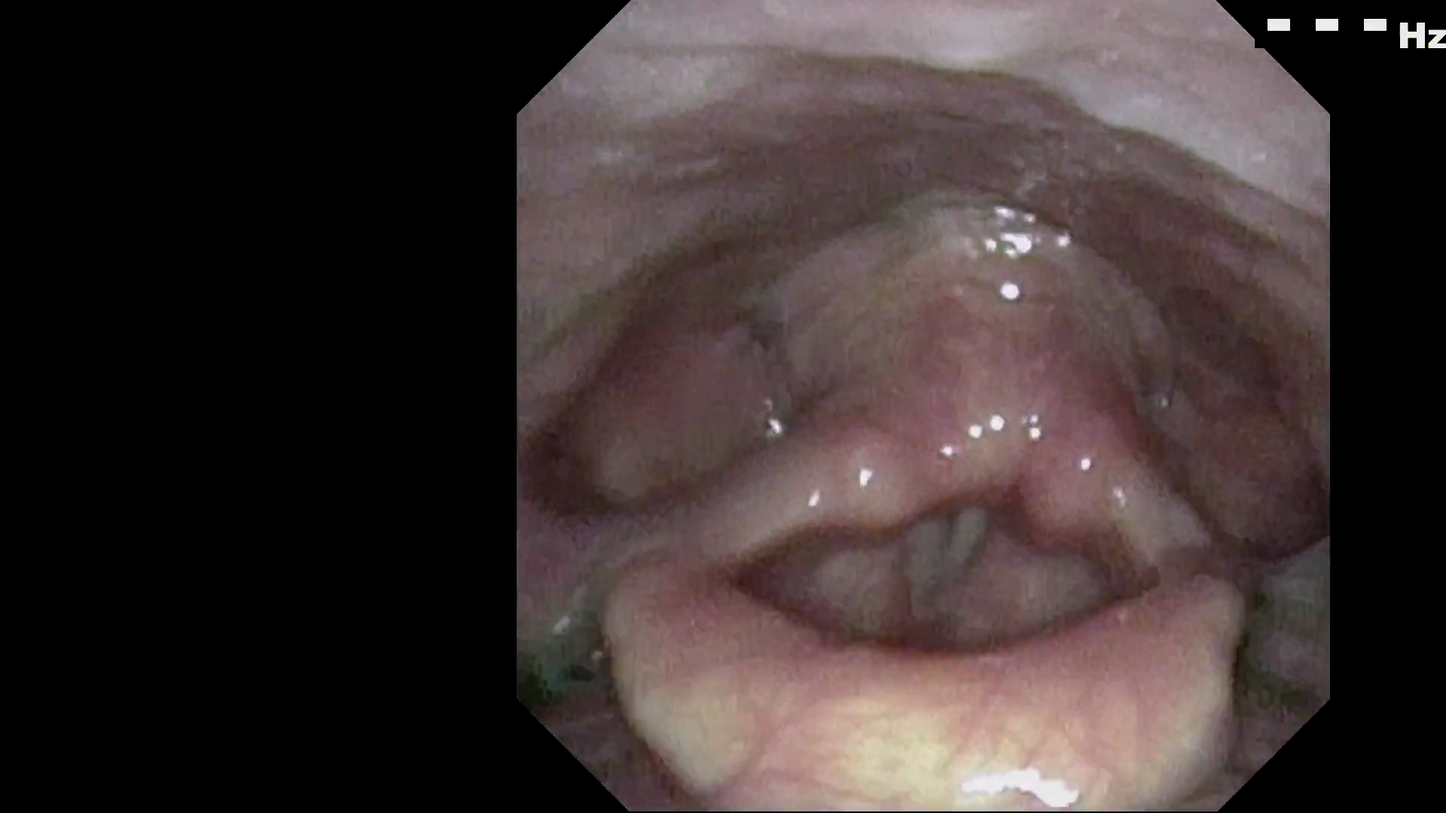epiglottis: (593, 572, 1270, 776)
trachea: (901, 475, 1032, 639)
